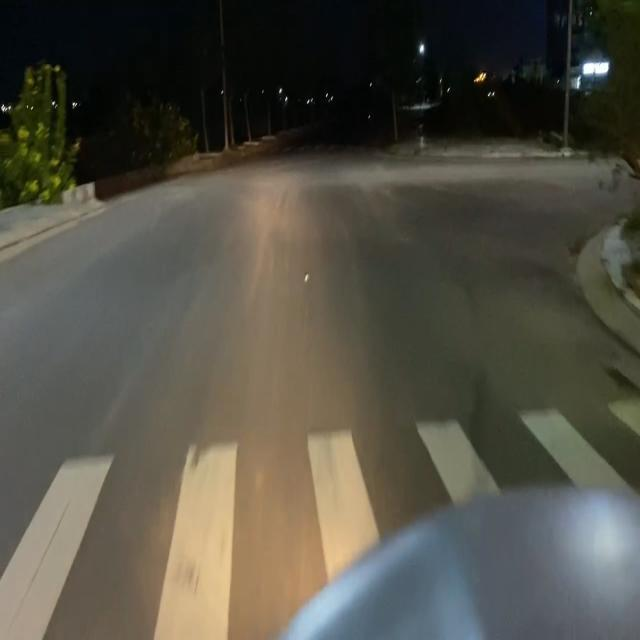walk-crossing: (1, 391, 640, 640)
